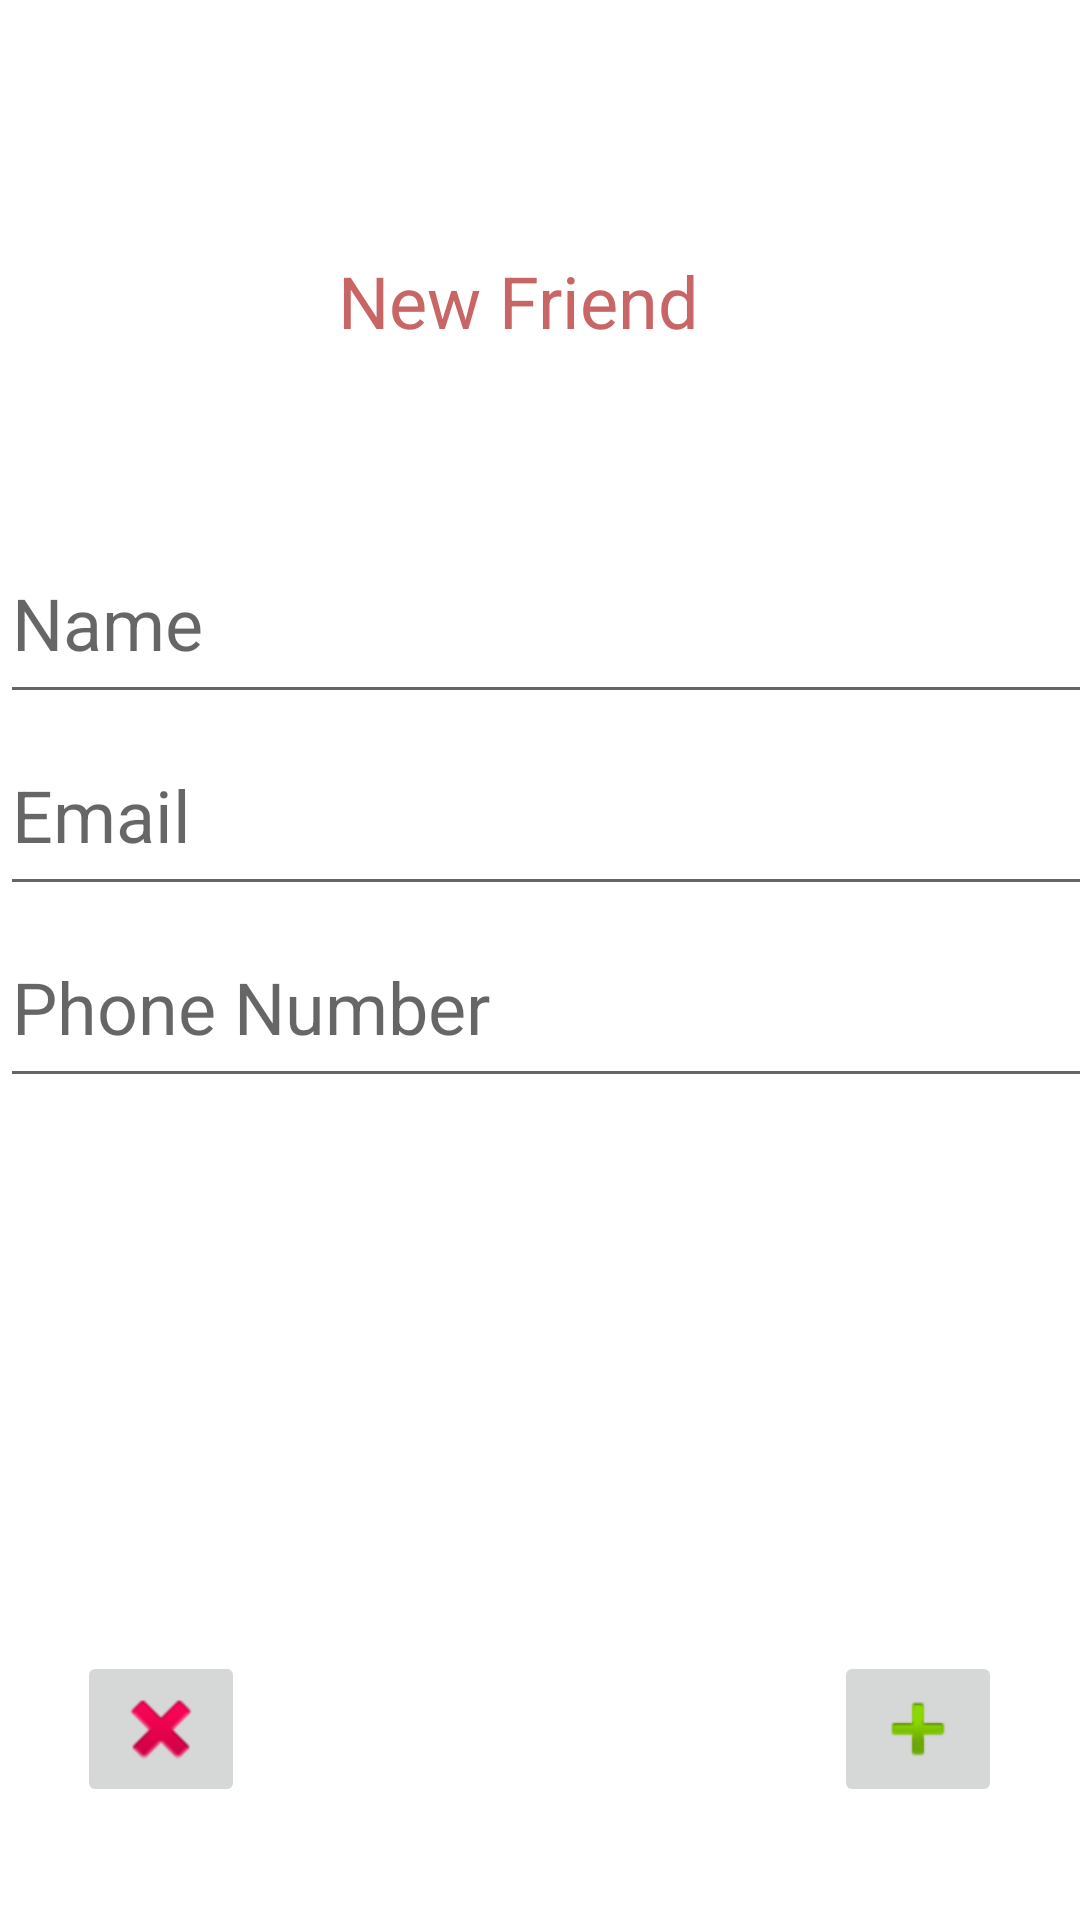

Screen size 1080 x 1920. Icon name, then its center in pixels as point (x, y):
add: point (918, 1729)
delete: point (161, 1729)
